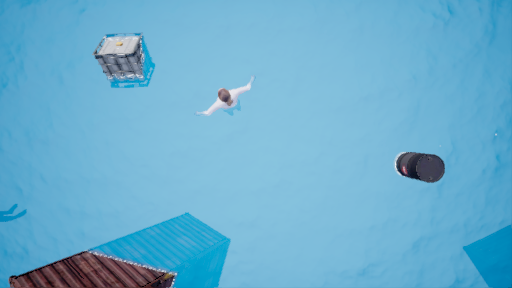person: (204, 77, 264, 121)
